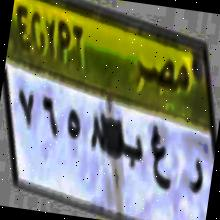5: (58, 103, 88, 163)
6: (34, 87, 64, 165)
7: (7, 74, 40, 140)
8: (82, 109, 110, 166)
baa: (114, 128, 147, 176)
ghayn: (140, 120, 180, 198)
raa: (181, 148, 207, 204)
